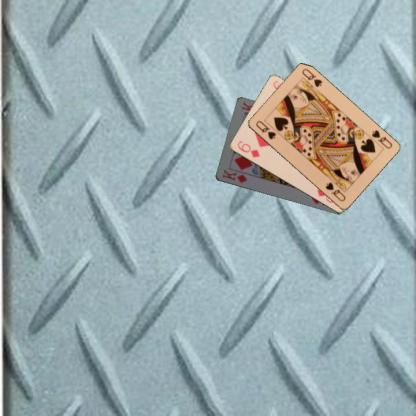6d: (235, 138, 260, 159)
Kd: (219, 167, 249, 184)
Qs: (368, 127, 393, 150), (253, 118, 277, 141)
